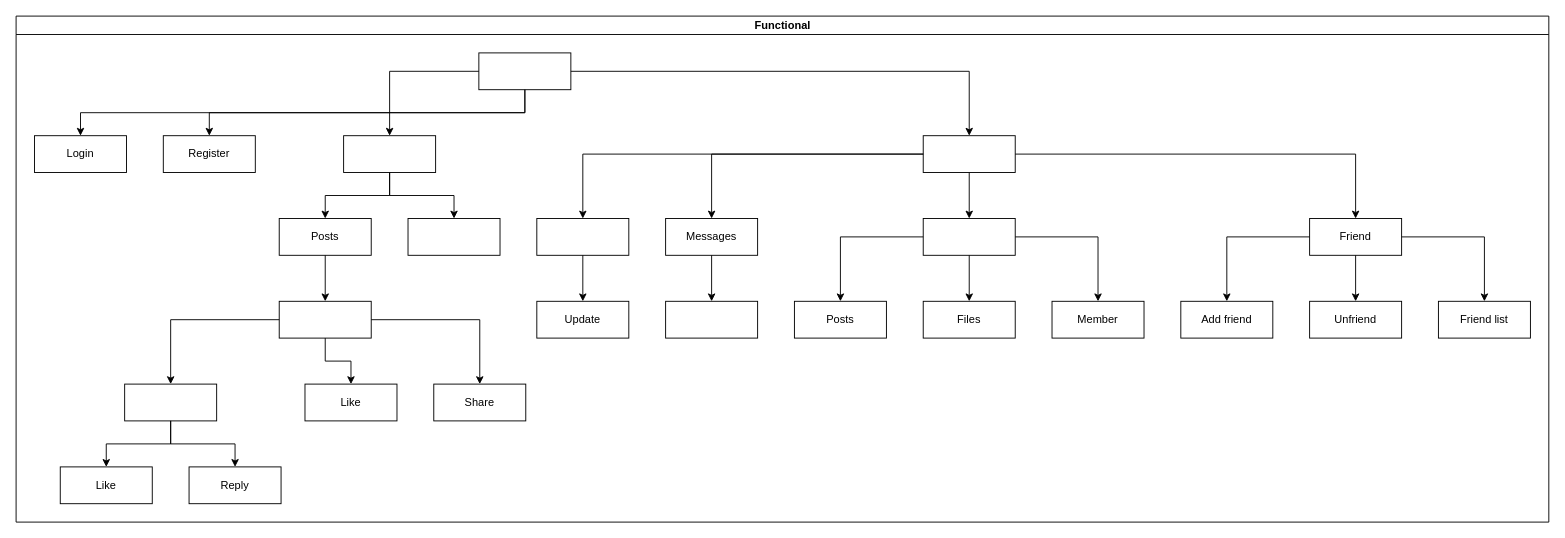
This 1565x538 diagram has some shape labels left out. The shapes that lost their labels are listed below. From the top down, each one's box as (x1, y1, x2, y2) in pixels, then its label:
(478, 52, 571, 90): TEDU Social
(343, 135, 436, 172): New feeds
(922, 135, 1015, 172): Profile
(407, 218, 500, 255): Notifications
(536, 218, 629, 255): Personal information
(922, 218, 1015, 255): Groups
(278, 300, 371, 338): Post detail
(665, 300, 758, 338): Send message
(124, 383, 217, 421): Comment
